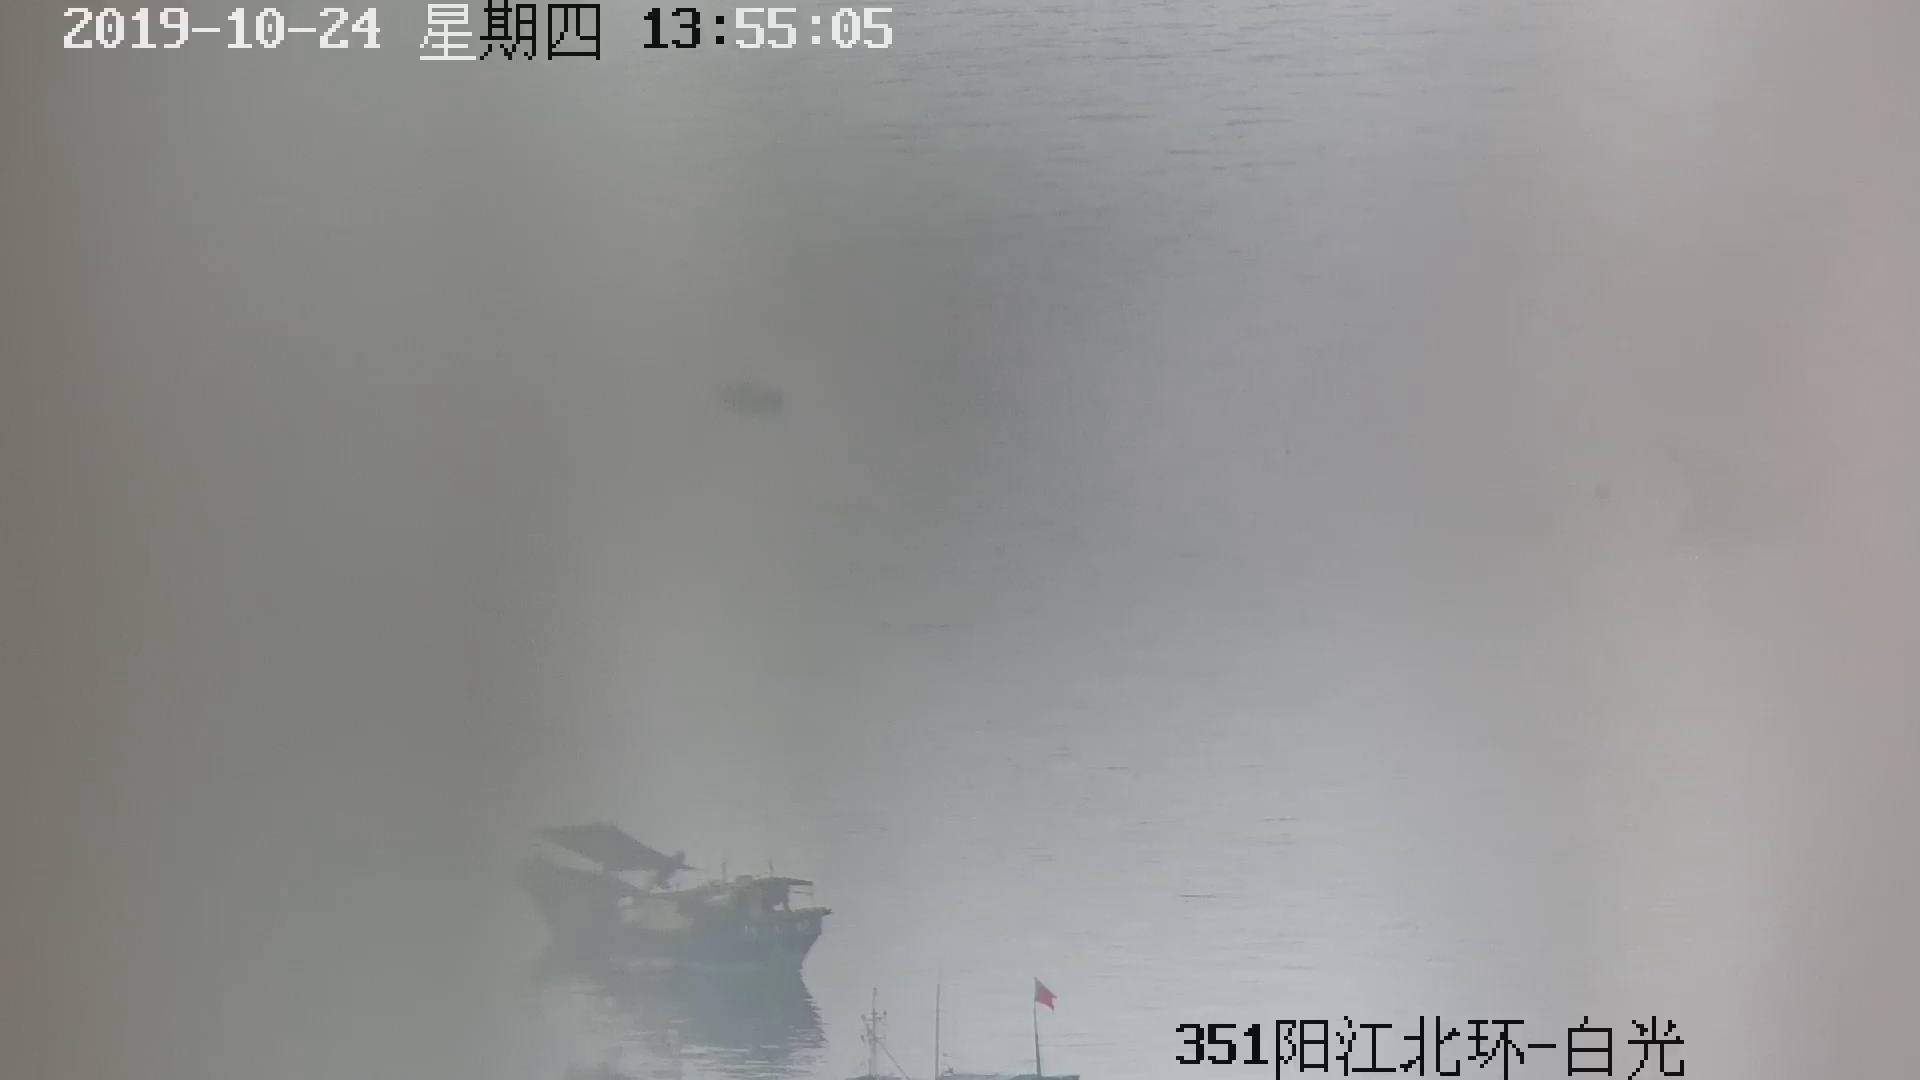ship: (512, 807, 829, 1005)
